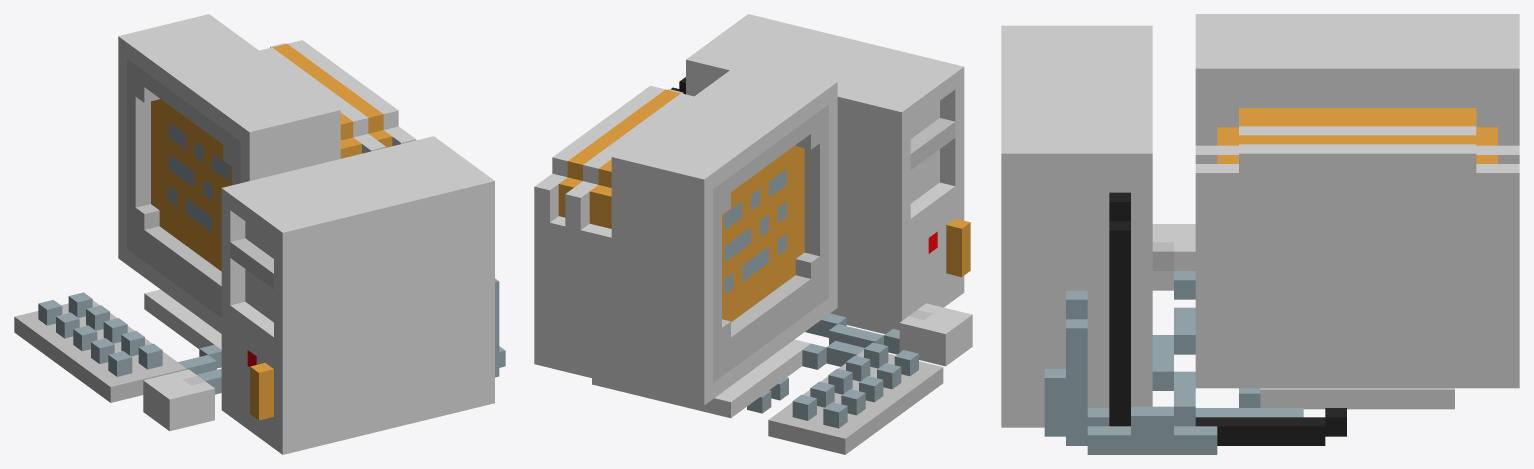
The model's file is Sunkent City - Player House-1-Computer.obj.
3 views of the same model, side by side, from view 1: azimuth 30°, elevation 25°; view 2: azimuth 150°, elevation 25°; view 3: azimuth 270°, elevation 25° (orthographic). The views are drawn at different scales.
Parts seen in each view (by area): view 1: Computer; view 2: Computer; view 3: Computer.
Boxes of the visible parts, box(x1,y1,x2,y2) form: Computer: box(14, 14, 505, 454); Computer: box(534, 14, 972, 454); Computer: box(1001, 14, 1519, 454).
Bounding box in the file's own units: 2.2 × 1.9 × 2.4.
Materials: 1 (1 with a texture image).
